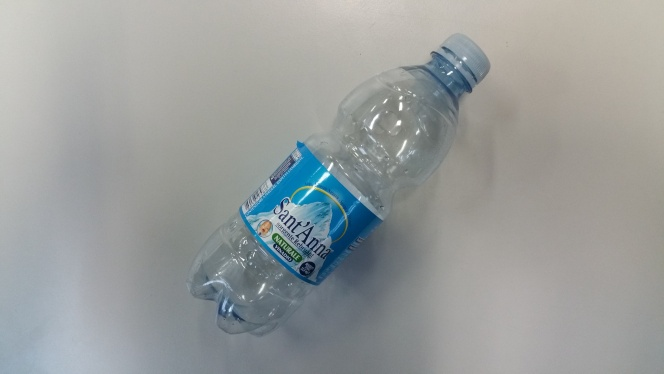bottle: (160, 29, 496, 336)
